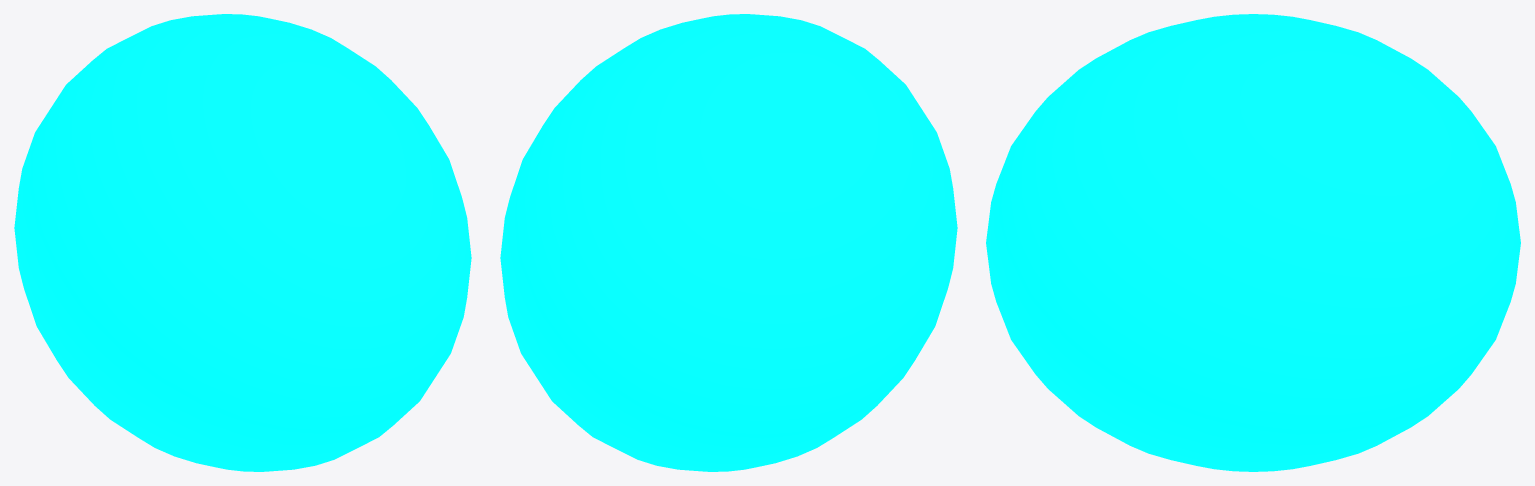
The model's file is Spreadshot.fbx.
3 views of the same model, side by side, from view 1: azimuth 30°, elevation 25°; view 2: azimuth 150°, elevation 25°; view 3: azimuth 270°, elevation 25° (orthographic). The views are drawn at different scales.
Parts seen in each view (by area): view 1: Sphere; view 2: Sphere; view 3: Sphere.
Part boxes in pixels (x1,y1,x2,y2): Sphere: [14, 14, 471, 471]; Sphere: [500, 14, 957, 471]; Sphere: [986, 14, 1520, 471].
Bounding box in the file's own units: 63.53 × 65.99 × 76.54.
